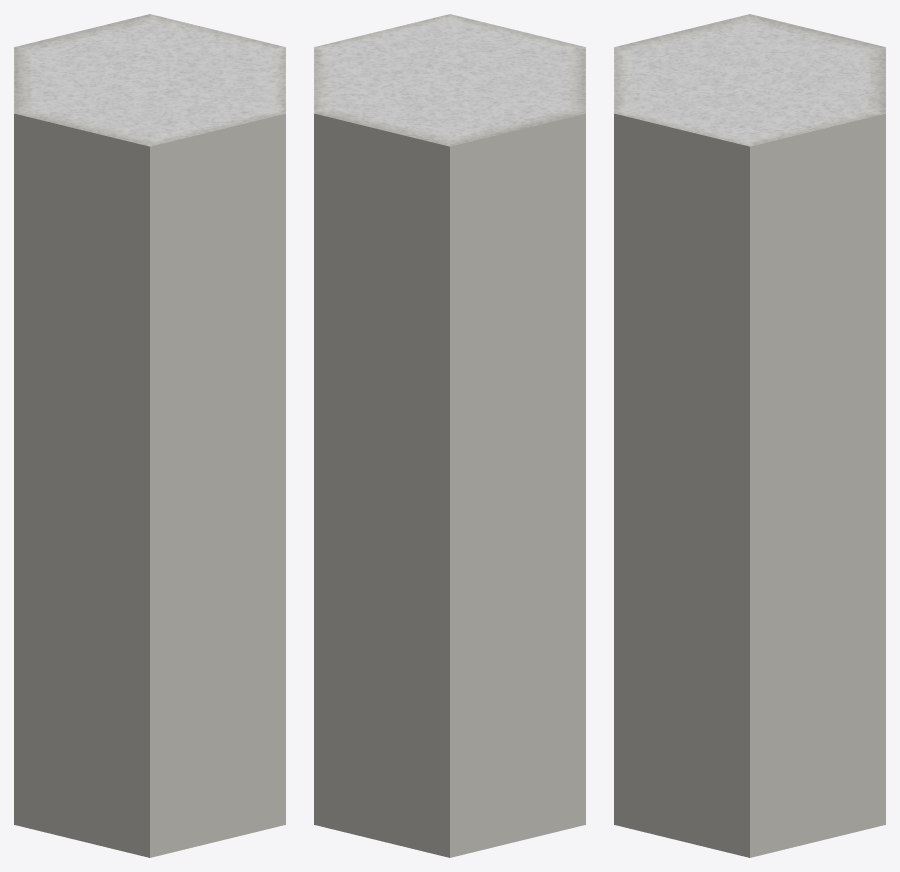
Rendered from HexaTile_Mur.FBX.
3 views of the same model, side by side, from view 1: azimuth 30°, elevation 25°; view 2: azimuth 150°, elevation 25°; view 3: azimuth 270°, elevation 25° (orthographic).
Visible parts, largest first — view 1: HexaTile_Mur; view 2: HexaTile_Mur; view 3: HexaTile_Mur.
Part boxes in pixels (left/top/right/bottom): HexaTile_Mur: left=14, top=14, right=285, bottom=857; HexaTile_Mur: left=314, top=14, right=585, bottom=857; HexaTile_Mur: left=614, top=14, right=885, bottom=857.
Bounding box in the file's own units: 1 × 2.5 × 0.866.
